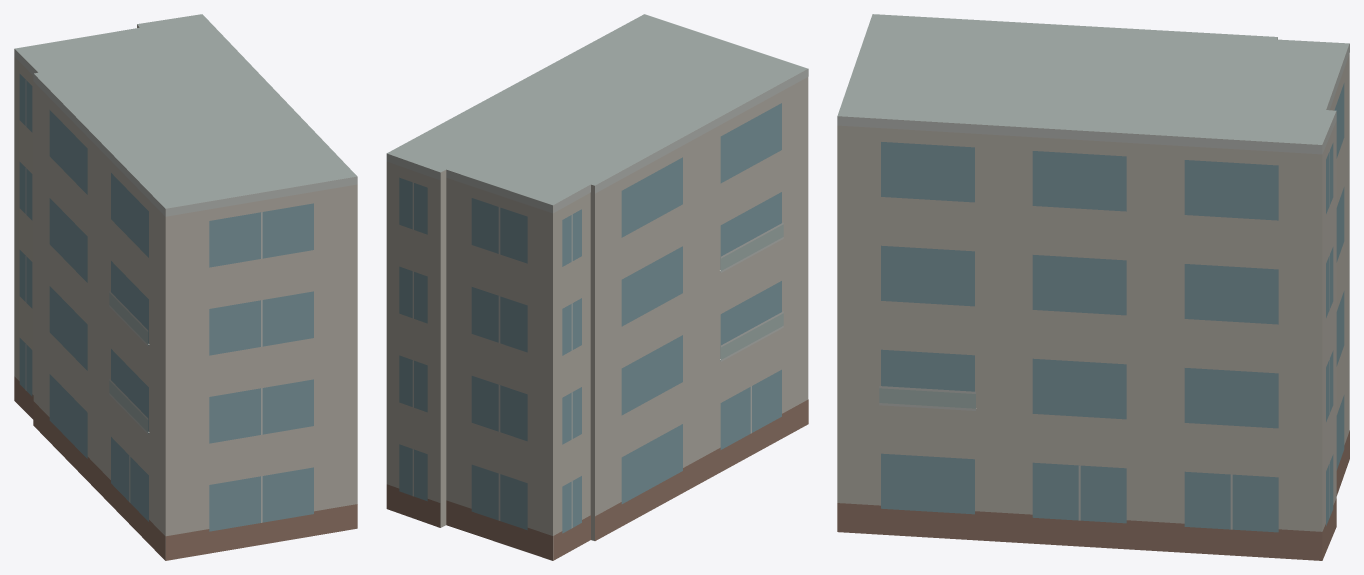
File: survey-upis-32672211.glb
3 renders of one model, left to right at view 1: azimuth 30°, elevation 25°; view 2: azimuth 150°, elevation 25°; view 3: azimuth 270°, elevation 25°, orthographic. The views are drawn at different scales.
Parts seen in each view (by area): view 1: survey-upis-32672211.tmp; view 2: survey-upis-32672211.tmp; view 3: survey-upis-32672211.tmp.
Part boxes in pixels (<box>): survey-upis-32672211.tmp: <box>14,14,357,560</box>; survey-upis-32672211.tmp: <box>386,14,808,560</box>; survey-upis-32672211.tmp: <box>837,14,1349,560</box>.
Size of the model in its own units: 7.31 by 10.8 by 12.07.
